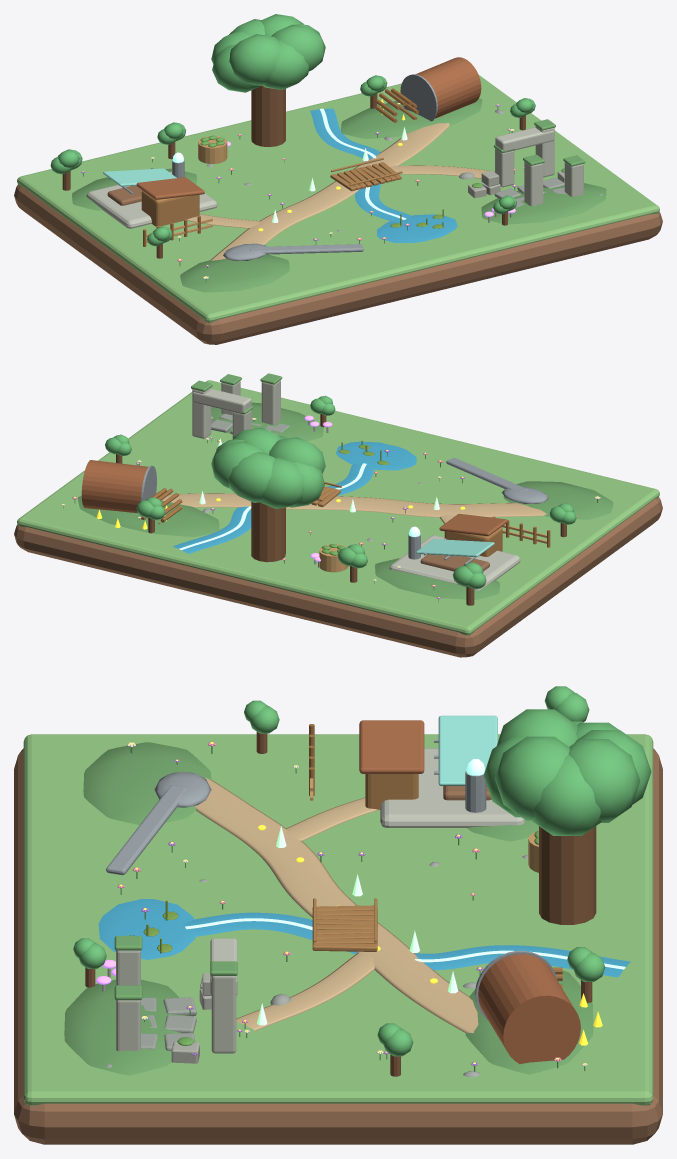
The model's file is awakening_garden.glb.
The picture shows the model from 3 angles, top to bottom: view 1: azimuth 30°, elevation 25°; view 2: azimuth 150°, elevation 25°; view 3: azimuth 270°, elevation 25°; orthographic projection. The views are drawn at different scales.
Parts seen in each view (by area): view 1: Meadow_Surface, Island_Earth, Main_Path, Terrain_Mound.002, Terrain_Mound.001, Terrain_Mound.003, Giant_Tin_Can, World_Tree_Trunk, Winding_Stream, World_Tree_Crown.005, Garden_Pond, Base_Platform (+20 smaller); view 2: Meadow_Surface, Island_Earth, Main_Path, Giant_Tin_Can, Terrain_Mound.001, Terrain_Mound.002, Terrain_Mound, World_Tree_Trunk, Base_Platform, Winding_Stream, World_Tree_Crown.002, World_Tree_Crown.003 (+18 smaller); view 3: Meadow_Surface, Island_Earth, Main_Path, Giant_Tin_Can, Terrain_Mound.002, Terrain_Mound.003, World_Tree_Trunk, Base_Platform, Winding_Stream, World_Tree_Crown.007, World_Tree_Crown.001, Garden_Pond (+20 smaller).
Boxes of the visible parts, left/top/right/bottom form: Meadow_Surface: left=17, top=75, right=659, bottom=322; Island_Earth: left=14, top=184, right=662, bottom=344; Main_Path: left=211, top=123, right=449, bottom=260; Terrain_Mound.002: left=180, top=254, right=289, bottom=292; Terrain_Mound.001: left=341, top=98, right=482, bottom=138; Terrain_Mound.003: left=481, top=183, right=606, bottom=224; Giant_Tin_Can: left=416, top=57, right=481, bottom=118; World_Tree_Trunk: left=251, top=85, right=285, bottom=147; Winding_Stream: left=310, top=108, right=411, bottom=221; World_Tree_Crown.005: left=229, top=34, right=279, bottom=85; Garden_Pond: left=377, top=214, right=457, bottom=242; Base_Platform: left=86, top=171, right=217, bottom=228; Meadow_Surface: left=17, top=380, right=659, bottom=635; Island_Earth: left=14, top=497, right=662, bottom=657; Main_Path: left=161, top=493, right=546, bottom=517; Giant_Tin_Can: left=81, top=460, right=148, bottom=513; Terrain_Mound.001: left=78, top=496, right=219, bottom=536; Terrain_Mound.002: left=503, top=481, right=613, bottom=519; Terrain_Mound: left=375, top=558, right=499, bottom=599; World_Tree_Trunk: left=251, top=502, right=285, bottom=562; Base_Platform: left=389, top=535, right=520, bottom=590; Winding_Stream: left=173, top=463, right=374, bottom=553; World_Tree_Crown.002: left=228, top=452, right=275, bottom=502; World_Tree_Crown.003: left=259, top=457, right=304, bottom=508; Meadow_Surface: left=23, top=734, right=653, bottom=1105; Island_Earth: left=14, top=748, right=662, bottom=1144; Main_Path: left=194, top=777, right=478, bottom=1033; Giant_Tin_Can: left=478, top=954, right=580, bottom=1064; Terrain_Mound.002: left=83, top=742, right=211, bottom=824; Terrain_Mound.003: left=64, top=979, right=188, bottom=1075; World_Tree_Trunk: left=539, top=826, right=596, bottom=924; Base_Platform: left=380, top=748, right=525, bottom=827; Winding_Stream: left=183, top=912, right=630, bottom=977; World_Tree_Crown.007: left=495, top=736, right=569, bottom=820; World_Tree_Crown.001: left=568, top=739, right=640, bottom=822; Garden_Pond: left=98, top=899, right=195, bottom=959.
Bounding box in the file's own units: 46 × 14.05 × 34.
